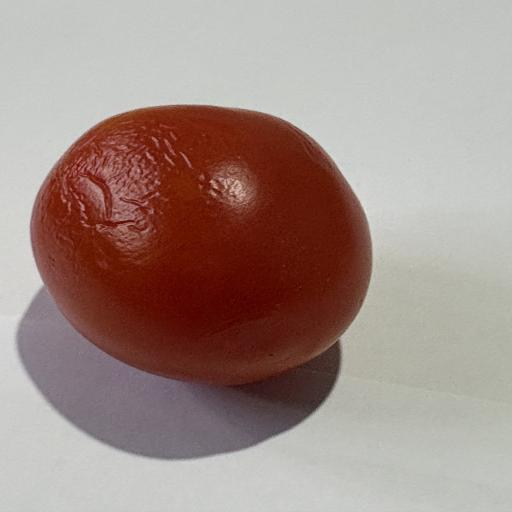spoiled: (31, 105, 371, 384)
